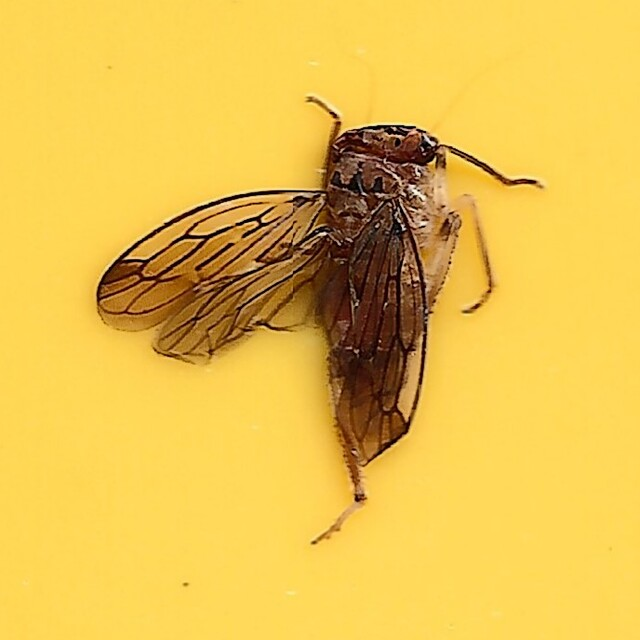Hemiptera: (93, 96, 547, 544)
